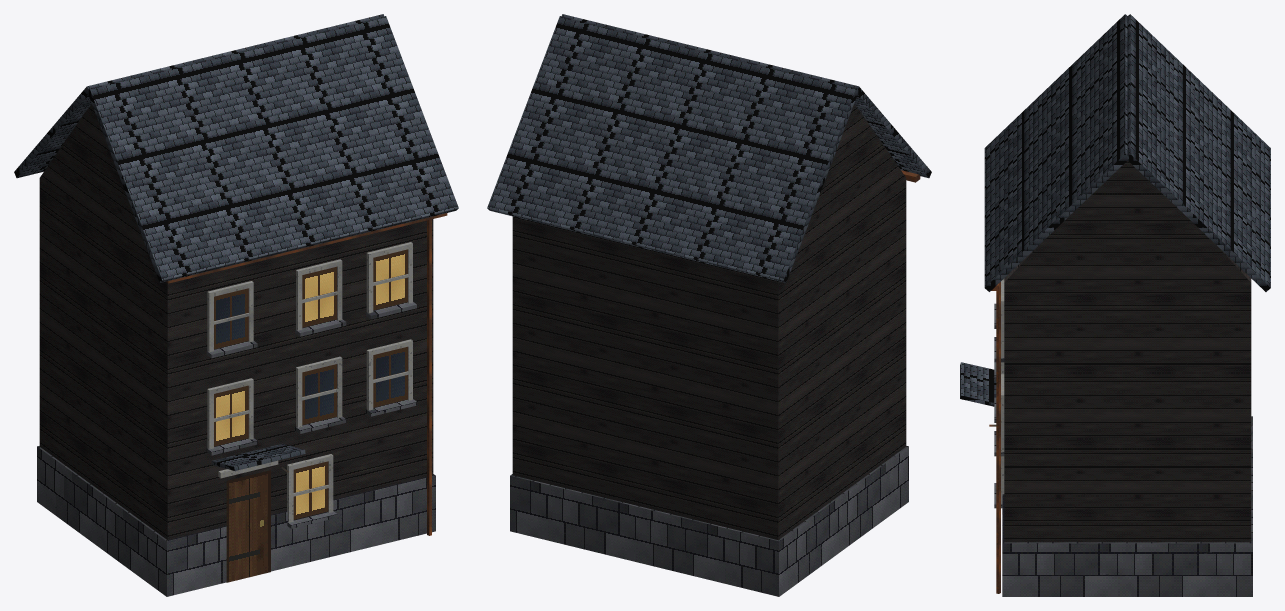
The model's file is casa_niebla_ancha.obj.
The picture shows the model from 3 angles, left to right: view 1: azimuth 30°, elevation 25°; view 2: azimuth 150°, elevation 25°; view 3: azimuth 270°, elevation 25°; orthographic projection. The views are drawn at different scales.
Visible parts, largest first — view 1: casa_niebla_ancha; view 2: casa_niebla_ancha; view 3: casa_niebla_ancha.
Boxes of the visible parts, x1,y1,x2,y2 form: casa_niebla_ancha: (14,14,458,596); casa_niebla_ancha: (487,14,931,596); casa_niebla_ancha: (960,14,1270,596).
Bounding box in the file's own units: 6.7 × 10.05 × 6.3.
Materials: 9 (9 with a texture image).
